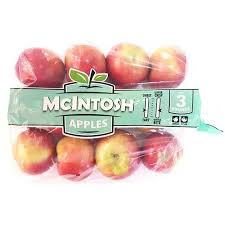apple: (91, 126, 143, 181), (148, 34, 191, 93), (13, 44, 69, 89), (11, 128, 56, 180), (138, 131, 190, 176), (65, 41, 112, 87), (106, 38, 151, 85), (52, 135, 96, 182)
